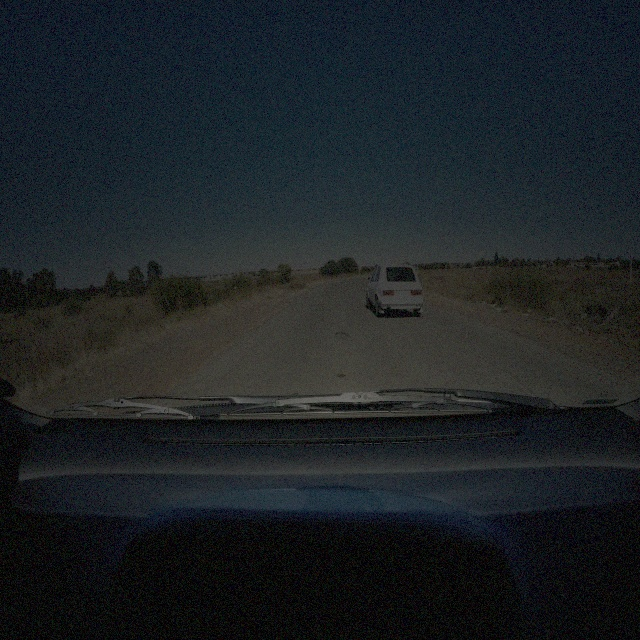pothole: (335, 331, 350, 342)
